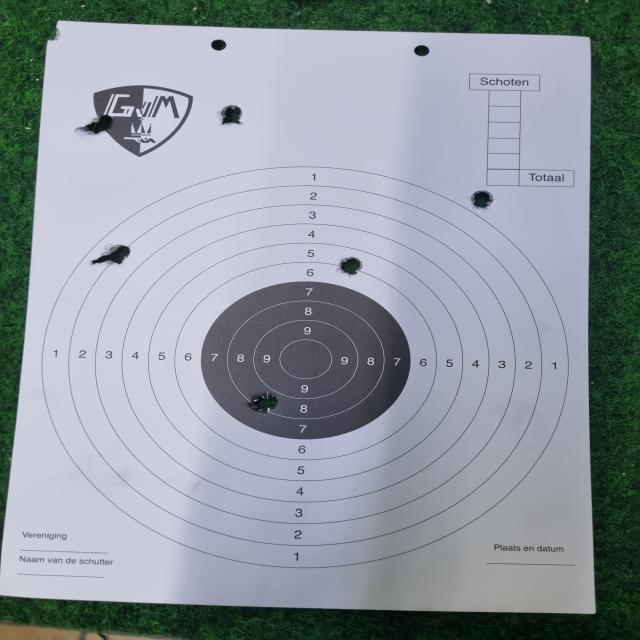0: (74, 114, 113, 136), (216, 105, 244, 126), (470, 190, 495, 210)
2: (89, 244, 130, 266)
5: (336, 257, 364, 276)
8: (246, 393, 280, 413)
Target: (45, 165, 572, 570)
black_contour: (195, 283, 405, 438)
